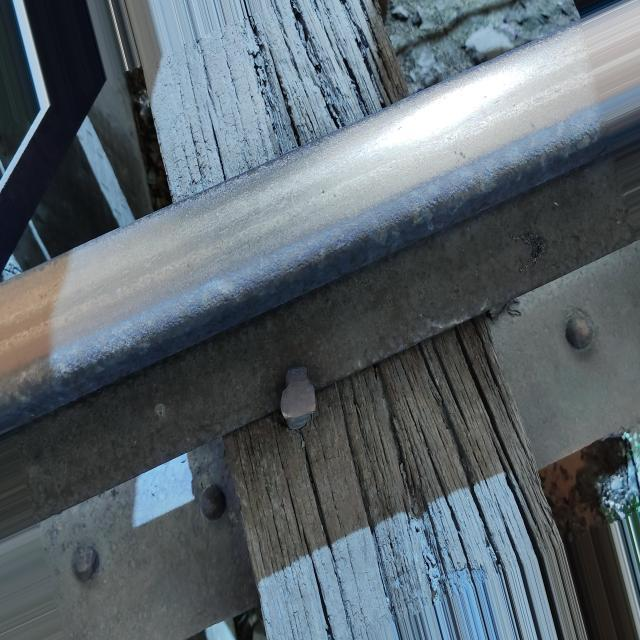Good Fasteners: (281, 367, 316, 429)
